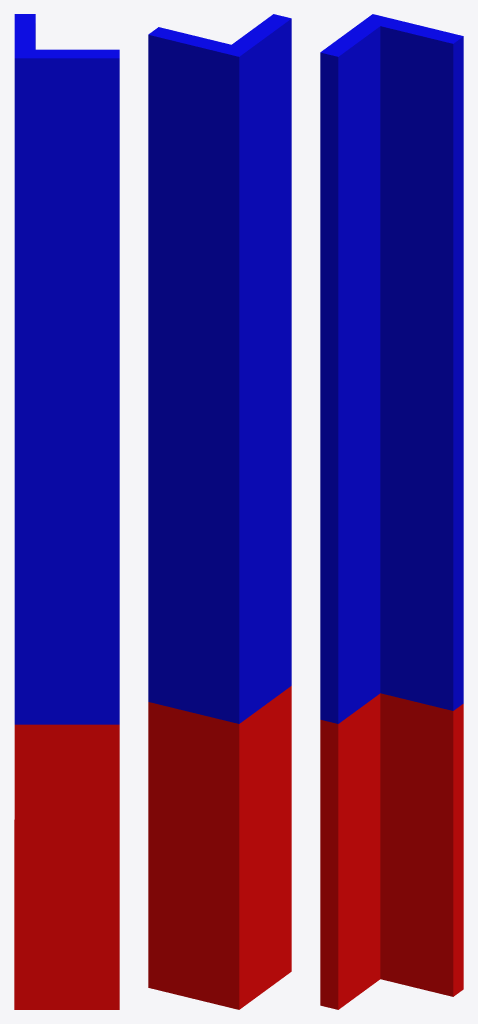
3 renders of one model, left to right at view 1: azimuth 90°, elevation 25°; view 2: azimuth 150°, elevation 25°; view 3: azimuth 330°, elevation 25°, orthographic.
Visible parts, largest first — view 1: SM_100Lx20Dx1000H_C; view 2: SM_100Lx20Dx1000H_C; view 3: SM_100Lx20Dx1000H_C.
Part boxes in pixels (x1=…): SM_100Lx20Dx1000H_C: x1=14, y1=14, x2=119, y2=1009; SM_100Lx20Dx1000H_C: x1=148, y1=14, x2=291, y2=1009; SM_100Lx20Dx1000H_C: x1=320, y1=14, x2=463, y2=1009.
Bounding box in the file's own units: 100 × 1000 × 100.
